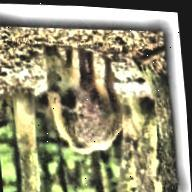boar: (38, 36, 135, 172)
